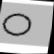no answer: (0, 9, 38, 37)
